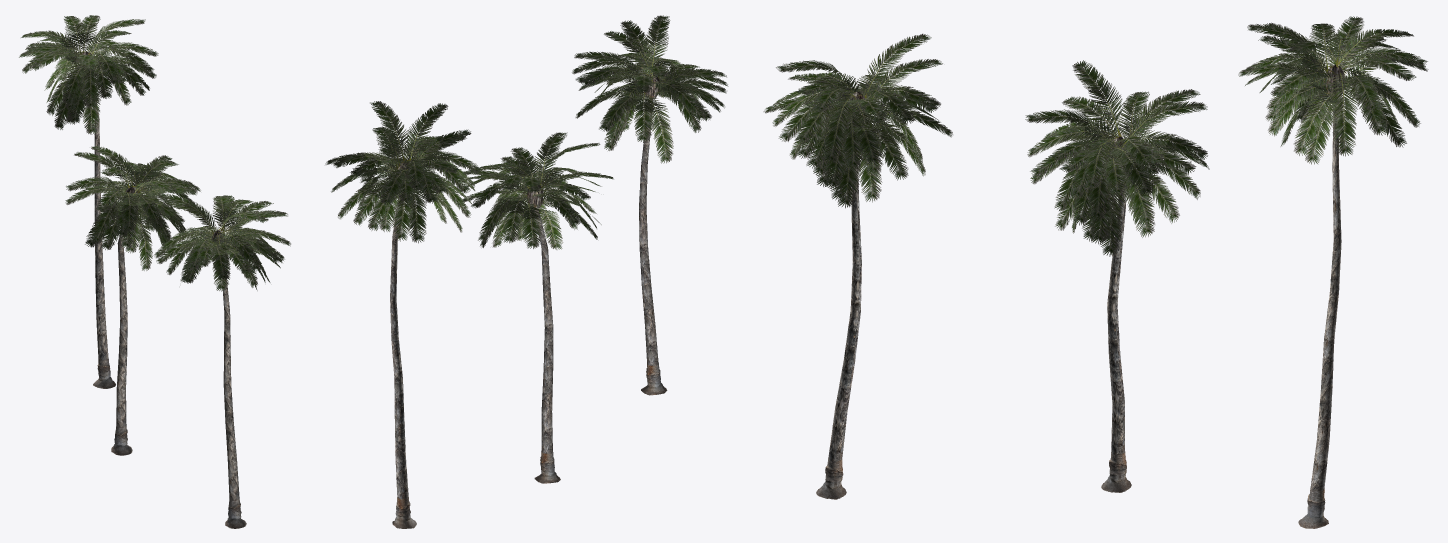
File: palm_tree_pack_lowpoly.obj
The picture shows the model from 3 angles, left to right: view 1: azimuth 30°, elevation 25°; view 2: azimuth 150°, elevation 25°; view 3: azimuth 270°, elevation 25°; orthographic projection. The views are drawn at different scales.
Visible parts, largest first — view 1: obj8, obj5, obj2, obj1, obj4, obj7, obj6, obj3, obj9; view 2: obj8, obj2, obj5, obj7, obj4, obj1, obj9, obj6, obj3; view 3: obj5, obj2, obj8, obj7, obj1, obj4, obj3, obj6, obj9.
Part boxes in pixels (bbox=[...]): obj8: bbox=[19, 15, 158, 134]; obj5: bbox=[65, 145, 200, 270]; obj2: bbox=[153, 193, 290, 291]; obj1: bbox=[212, 230, 239, 499]; obj4: bbox=[116, 187, 137, 426]; obj7: bbox=[82, 52, 108, 360]; obj6: bbox=[111, 424, 132, 455]; obj3: bbox=[225, 498, 246, 528]; obj9: bbox=[93, 358, 115, 388]; obj8: bbox=[325, 101, 482, 243]; obj2: bbox=[572, 15, 728, 163]; obj5: bbox=[460, 132, 613, 249]; obj7: bbox=[390, 160, 409, 499]; obj4: bbox=[527, 185, 553, 453]; obj1: bbox=[639, 74, 659, 365]; obj9: bbox=[392, 496, 416, 528]; obj6: bbox=[534, 451, 560, 483]; obj3: bbox=[641, 363, 667, 395]; obj5: bbox=[1025, 60, 1209, 256]; obj2: bbox=[763, 33, 952, 208]; obj8: bbox=[1238, 16, 1428, 164]; obj7: bbox=[1310, 64, 1345, 490]; obj1: bbox=[828, 92, 865, 461]; obj4: bbox=[1107, 136, 1129, 454]; obj3: bbox=[816, 458, 846, 499]; obj6: bbox=[1101, 451, 1131, 492]; obj9: bbox=[1298, 488, 1328, 528].
Size of the model in its own units: 5.22 by 11.08 by 13.68.
3 materials, 3 textured.
